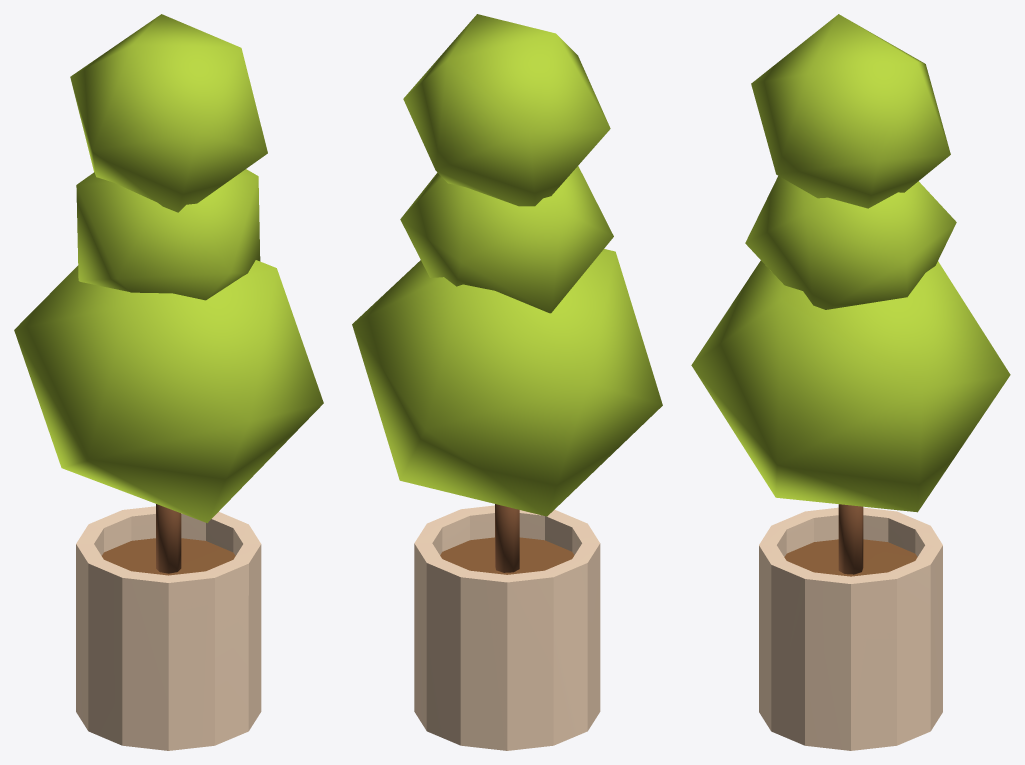
File: caycon.fbx
The picture shows the model from 3 angles, left to right: view 1: azimuth 30°, elevation 25°; view 2: azimuth 150°, elevation 25°; view 3: azimuth 270°, elevation 25°; orthographic projection.
Parts seen in each view (by area): view 1: caynho; view 2: caynho; view 3: caynho.
Part boxes in pixels (x1=…): caynho: x1=14, y1=14, x2=323, y2=750; caynho: x1=352, y1=14, x2=662, y2=750; caynho: x1=691, y1=14, x2=1010, y2=750.
Bounding box in the file's own units: 54.6 × 150 × 64.23.
